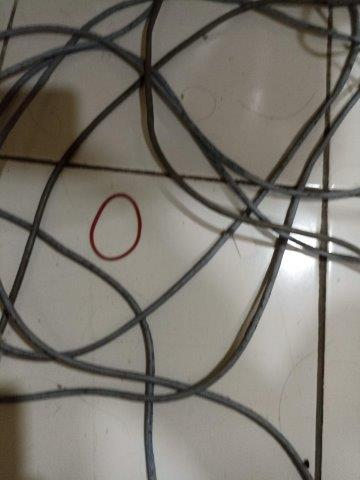karet: (89, 192, 142, 262)
